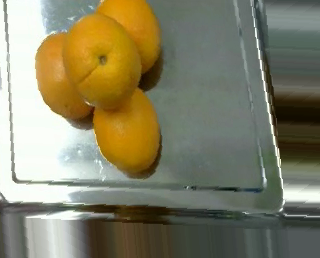Orange: (62, 13, 140, 107), (93, 87, 162, 172), (36, 31, 103, 117), (94, 1, 161, 76)
